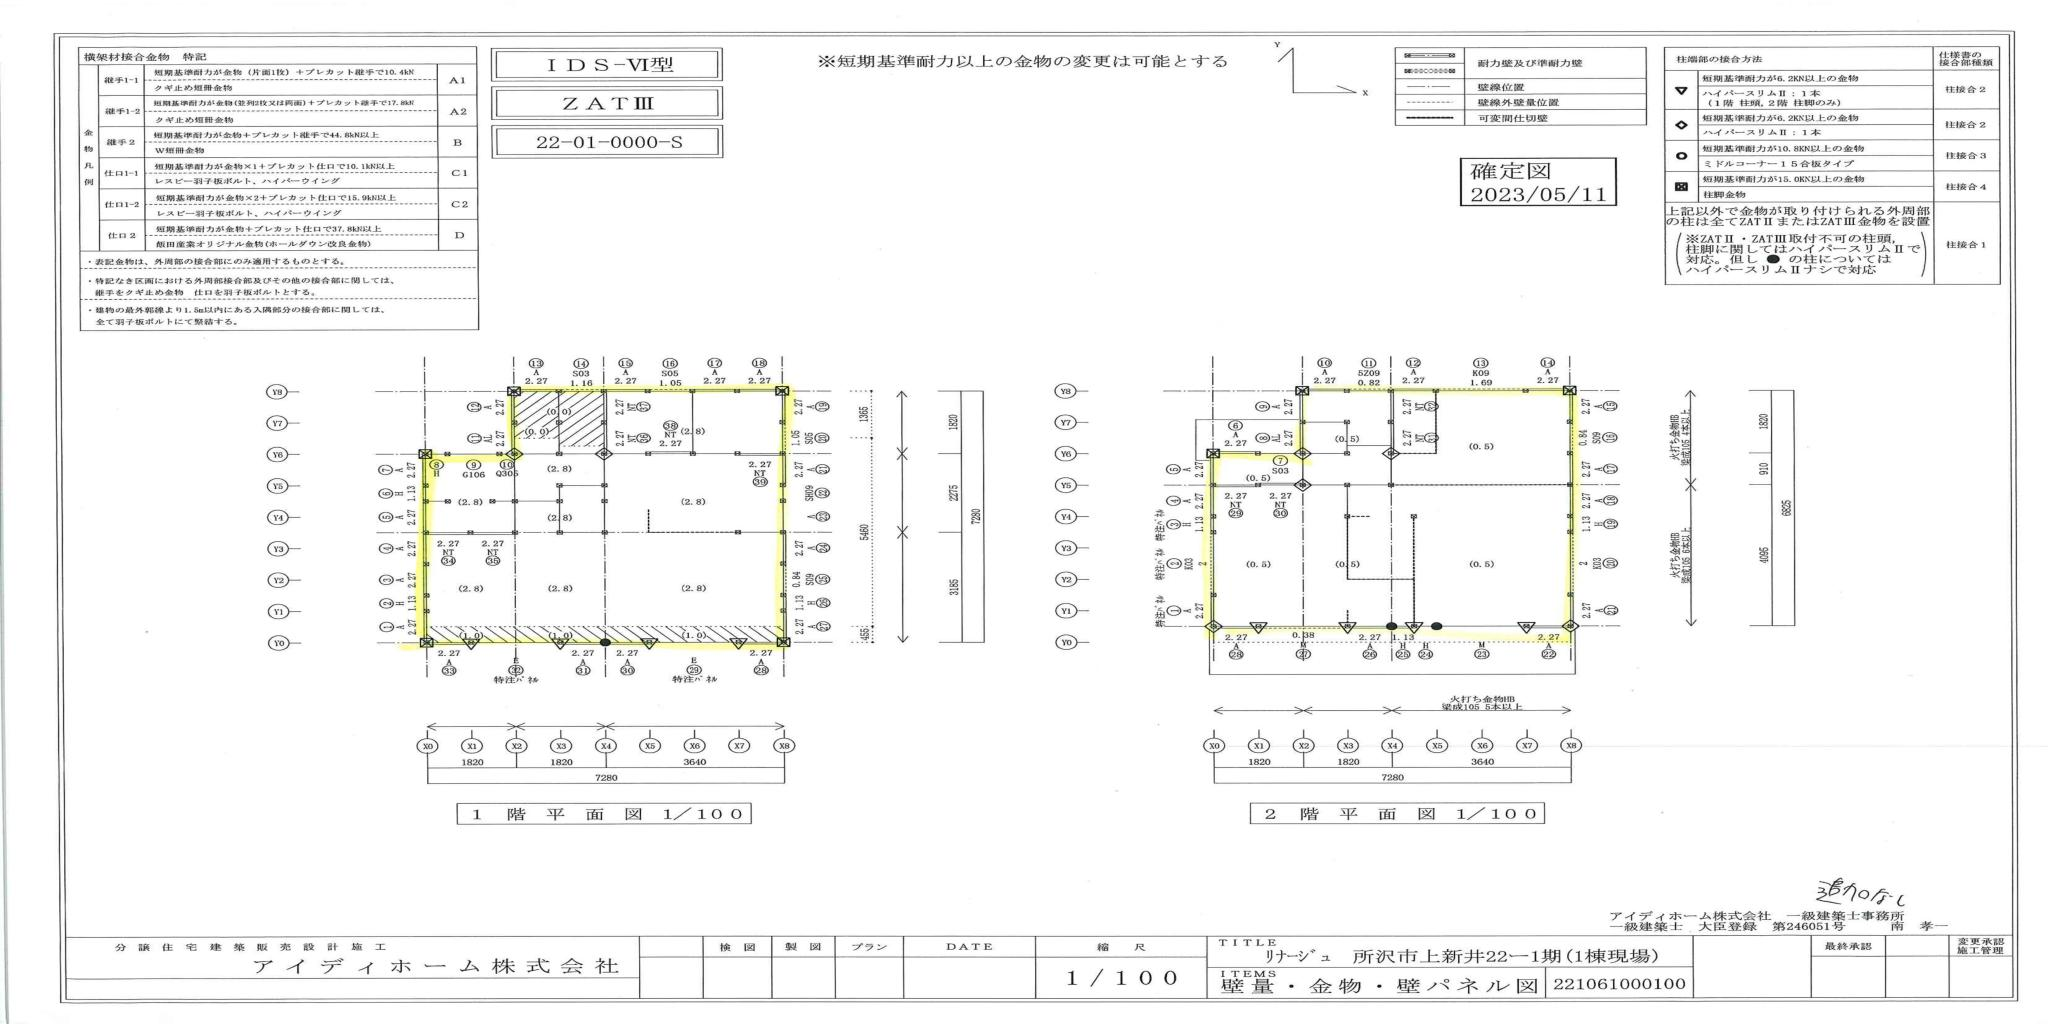CAD: (1149, 347, 1643, 690), (364, 347, 848, 692)
